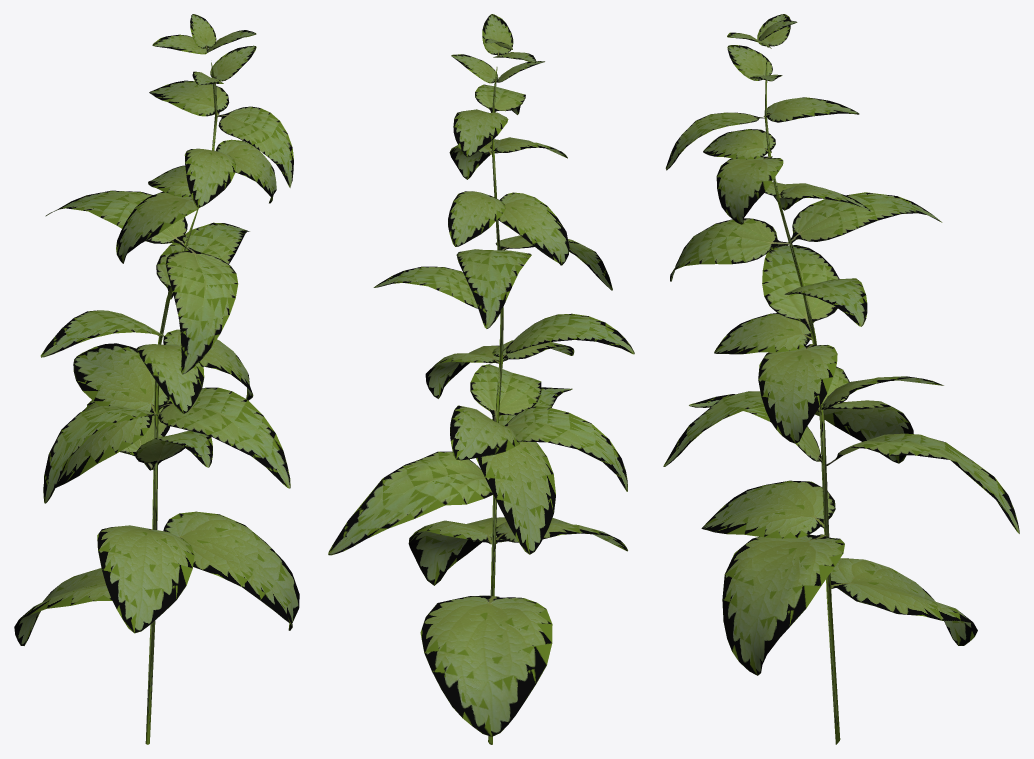
Rendered from nettle.glb.
3 renders of one model, left to right at view 1: azimuth 30°, elevation 25°; view 2: azimuth 150°, elevation 25°; view 3: azimuth 270°, elevation 25°, orthographic. The views are drawn at different scales.
Visible parts, largest first — view 1: GS Nettle 01; view 2: GS Nettle 01; view 3: GS Nettle 01.
Boxes of the visible parts, box(x1,y1,x2,y2) form: GS Nettle 01: box(14, 14, 299, 744); GS Nettle 01: box(328, 14, 634, 744); GS Nettle 01: box(663, 14, 1019, 744).
Size of the model in its own units: 0.1434 by 0.4082 by 0.1795.
1 material, 1 textured.
